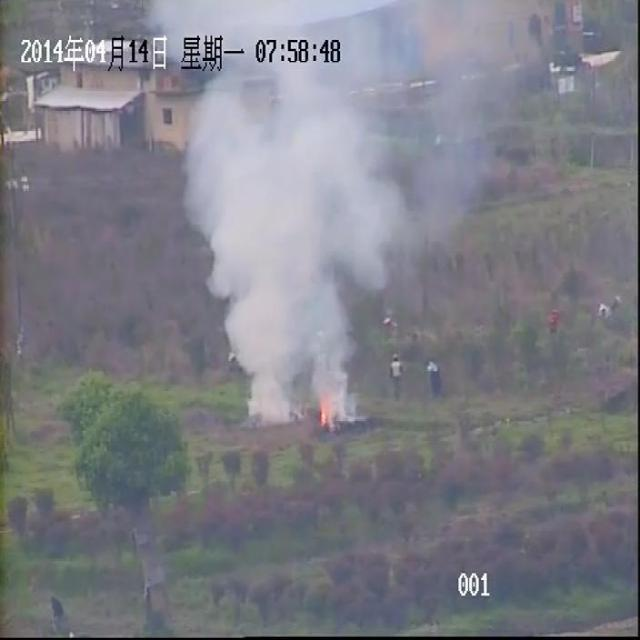Smoke: (142, 1, 512, 431)
